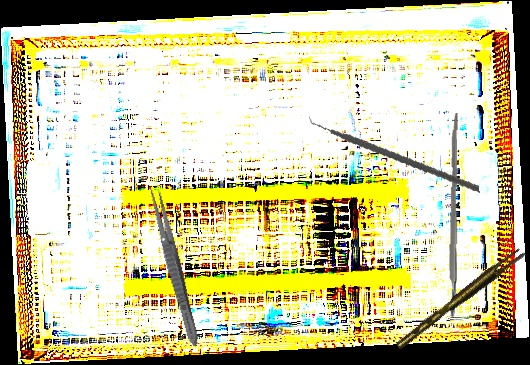Chopper: (307, 79, 480, 220)
Dressing Forceps: (144, 183, 204, 349)
Scalpel Handle: (447, 112, 460, 319)
Tissue Forceps: (390, 246, 530, 350)
